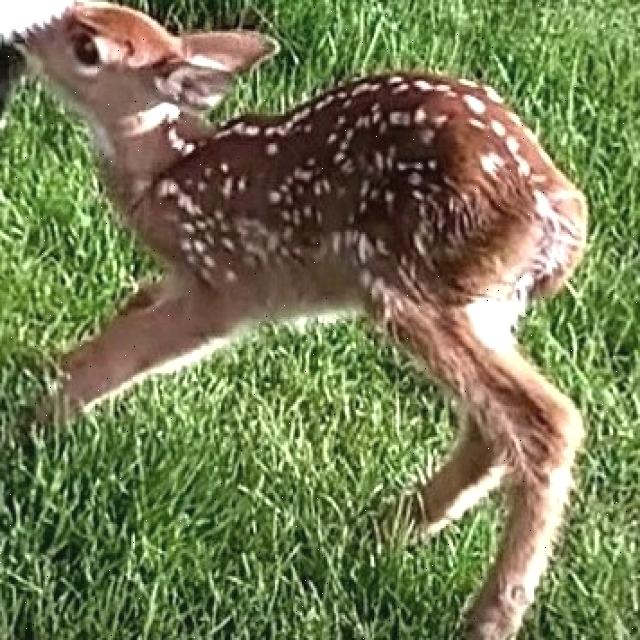deer: (4, 6, 577, 634)
